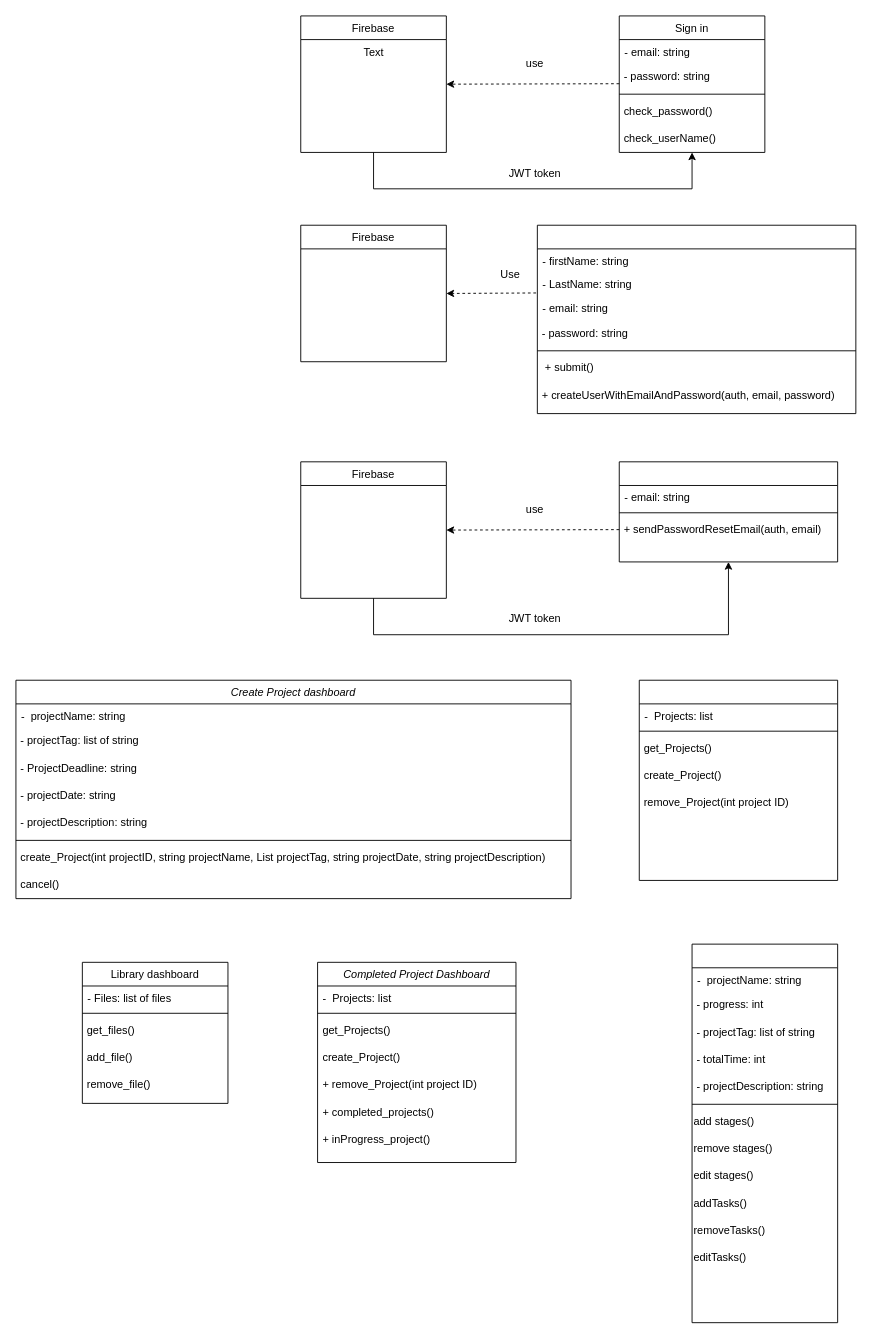
The diagram is 872 pixels wide and 1339 high, and some of its shapes have lost their labels. Here are the shapes that lost their labels. From the top down, the box of each, then its label:
(536, 224, 856, 414): Sign up
(618, 461, 838, 562): Forgot Password
(638, 679, 838, 880): main Dashboard
(691, 943, 838, 1323): Project Dashboad
